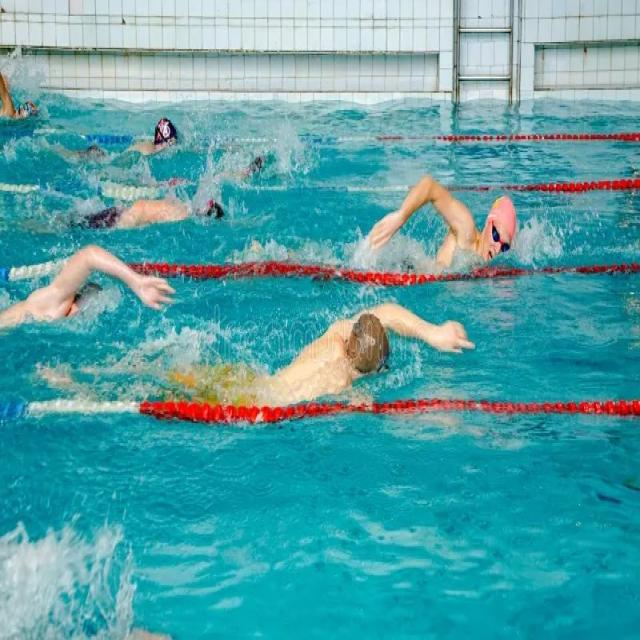swimming: (220, 292, 493, 406), (334, 165, 552, 297), (7, 235, 174, 364)
